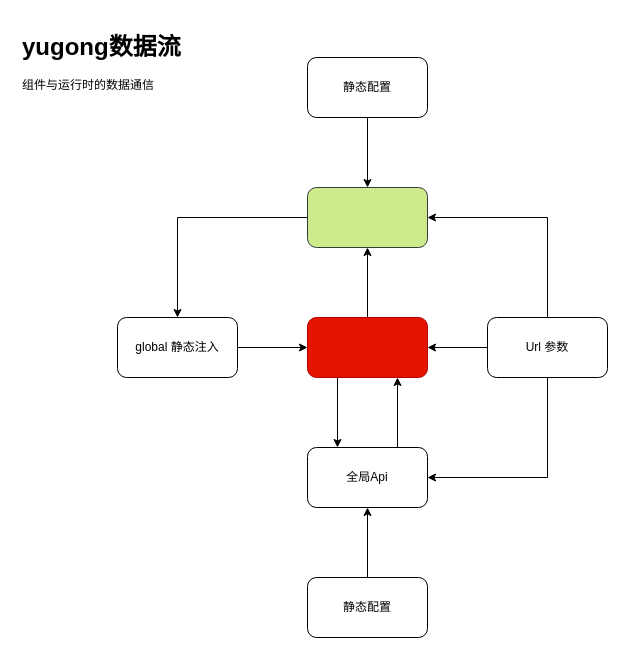
Some shapes in this 625 by 655 pixel diagram are drawn without their labels. Here are the shapes that lost their labels. From the top down, the box of each, then its label:
(306, 186, 428, 248): 组件数据
(306, 316, 428, 378): 运行时
